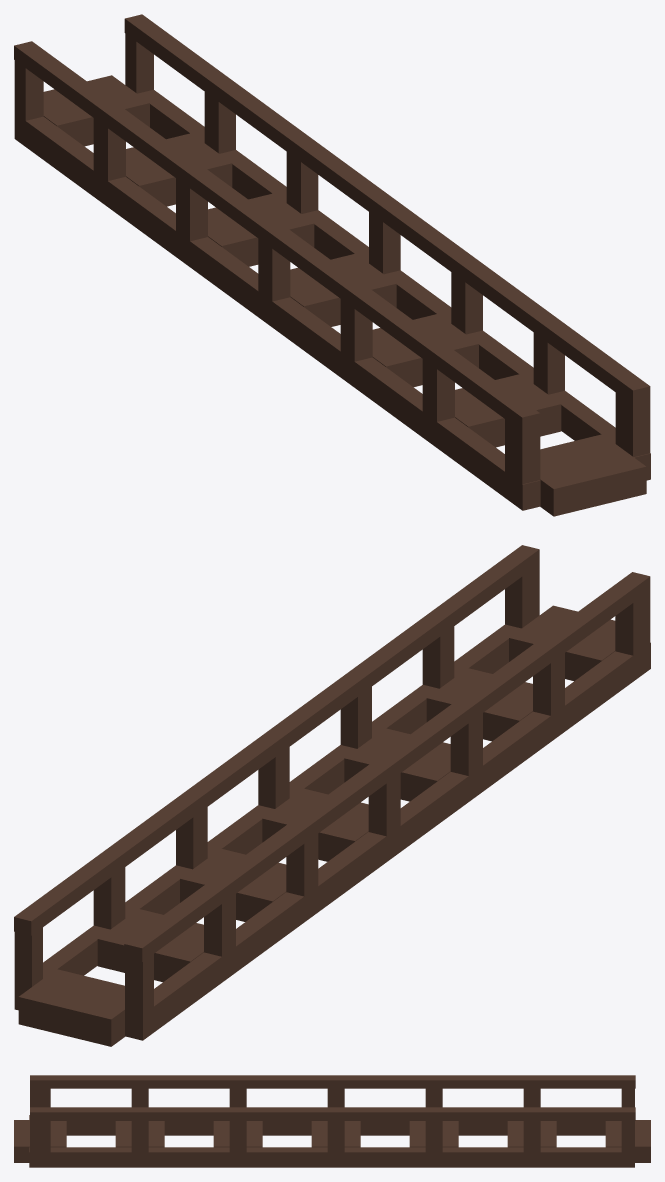
File: way.fbx
3 views of the same model, one above another, from view 1: azimuth 30°, elevation 25°; view 2: azimuth 150°, elevation 25°; view 3: azimuth 270°, elevation 25° (orthographic). The views are drawn at different scales.
Visible parts, largest first — view 1: Cube; view 2: Cube; view 3: Cube.
Part boxes in pixels (box(x1,y1,x2,y2)): Cube: box(14, 14, 650, 516); Cube: box(14, 545, 650, 1046); Cube: box(14, 1075, 650, 1167).
Size of the model in its own units: 276 by 193 by 1996.
